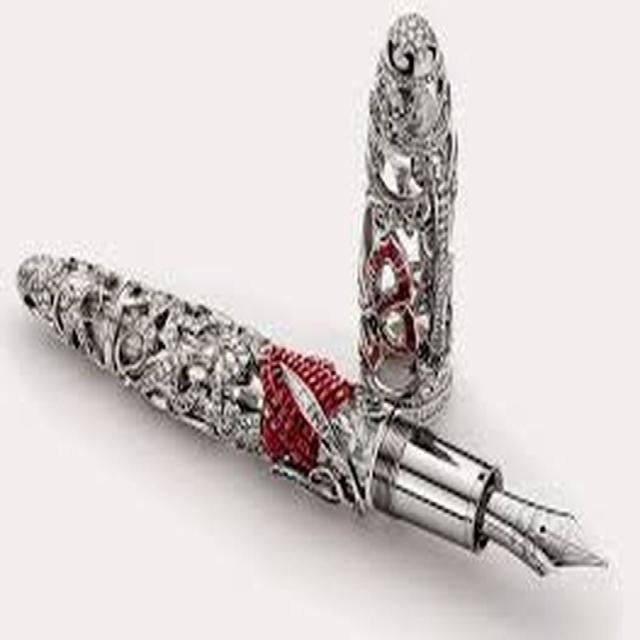pen: (5, 7, 623, 605)
